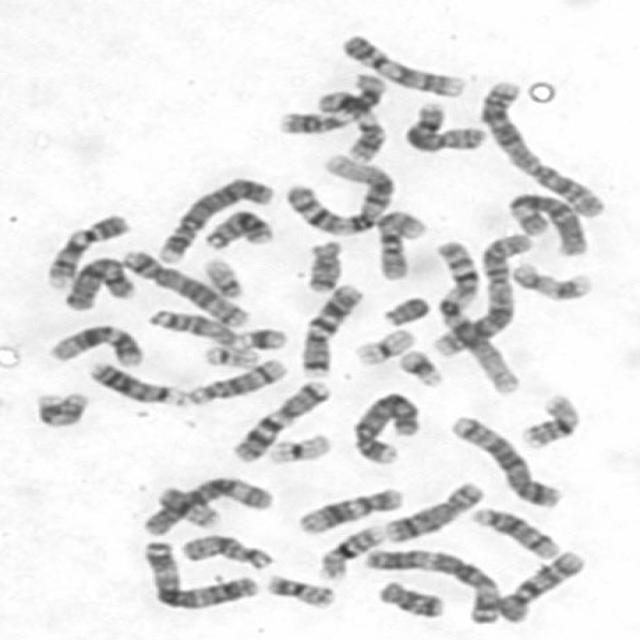A1: (431, 234, 524, 396), (280, 151, 399, 238)
A2: (475, 76, 611, 219), (430, 230, 536, 359)
A3: (360, 544, 508, 627), (137, 536, 260, 611)
B4: (151, 171, 276, 265), (347, 387, 424, 465)
B5: (115, 243, 254, 329), (446, 410, 566, 509)
C10: (488, 545, 590, 625), (370, 203, 430, 282)
C11: (273, 69, 389, 136), (311, 85, 389, 164)
C12: (293, 482, 407, 535), (43, 320, 145, 368)
C6: (141, 473, 276, 536), (500, 188, 592, 257)
C7: (226, 374, 335, 464), (296, 280, 366, 379)
C8: (378, 476, 487, 545), (398, 96, 490, 154)
C9: (333, 26, 469, 98), (42, 206, 135, 289)
D13: (82, 357, 186, 406), (198, 204, 276, 251)
D14: (181, 353, 290, 406), (466, 504, 562, 561)
D15: (174, 528, 275, 570), (144, 304, 238, 346)
E16: (314, 521, 385, 581), (515, 389, 584, 450)
E17: (506, 258, 597, 302), (29, 387, 92, 429)
E18: (372, 574, 448, 620), (300, 235, 347, 295)
F19: (348, 322, 417, 367), (262, 429, 333, 466)
F20: (152, 484, 220, 530), (261, 571, 339, 610)
G21: (396, 343, 448, 388), (233, 322, 291, 352)
G22: (198, 252, 247, 300), (198, 340, 262, 369)
X: (58, 251, 141, 312)
Y: (378, 290, 432, 327)
